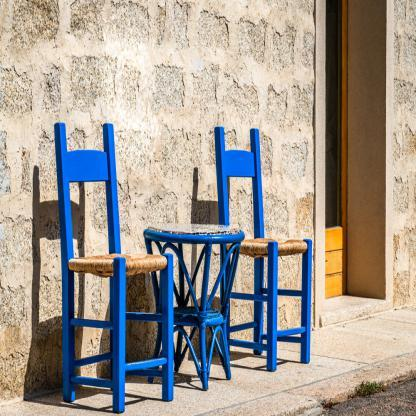chair: (53, 115, 176, 416), (209, 109, 323, 366), (331, 364, 332, 374)
table: (144, 215, 239, 394)
